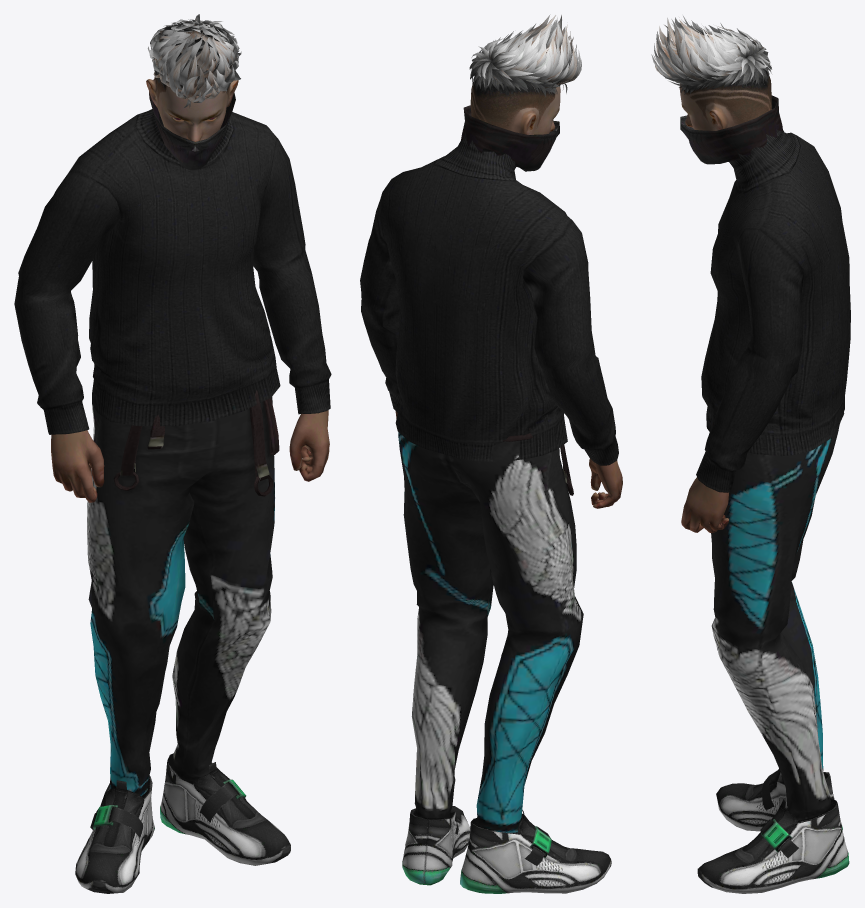
Rendered from npc5.glb.
The picture shows the model from 3 angles, left to right: view 1: azimuth 30°, elevation 25°; view 2: azimuth 150°, elevation 25°; view 3: azimuth 270°, elevation 25°; orthographic projection. The views are drawn at different scales.
Visible parts, largest first — view 1: Object_5, Object_6, Object_7, Object_3, Object_2, Object_4; view 2: Object_5, Object_6, Object_7, Object_2, Object_3, Object_4; view 3: Object_5, Object_6, Object_7, Object_2, Object_3, Object_4.
Boxes of the visible parts, x1,y1,x2,y2 form: Object_5: (14,109,331,434); Object_6: (87,367,279,796); Object_7: (75,753,290,893); Object_3: (51,30,329,502); Object_2: (147,14,241,108); Object_4: (149,79,235,170); Object_5: (360,132,618,465); Object_6: (398,428,583,832); Object_7: (402,806,611,893); Object_2: (469,14,581,96); Object_3: (395,69,622,508); Object_4: (461,105,559,171); Object_5: (696,129,850,492); Object_6: (711,412,844,820); Object_7: (697,769,849,893); Object_2: (651,16,771,94); Object_3: (679,69,771,532); Object_4: (680,95,782,164).
Size of the model in its own units: 6.72 by 20.96 by 4.56.
Materials: 6 (6 with a texture image).
